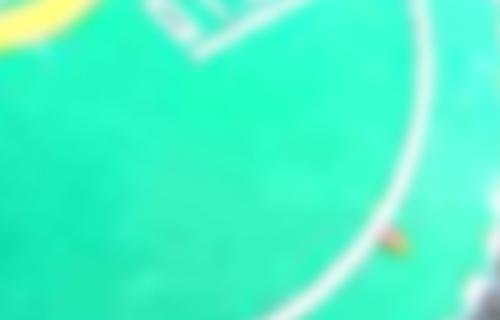Apron: (1, 1, 93, 58)
